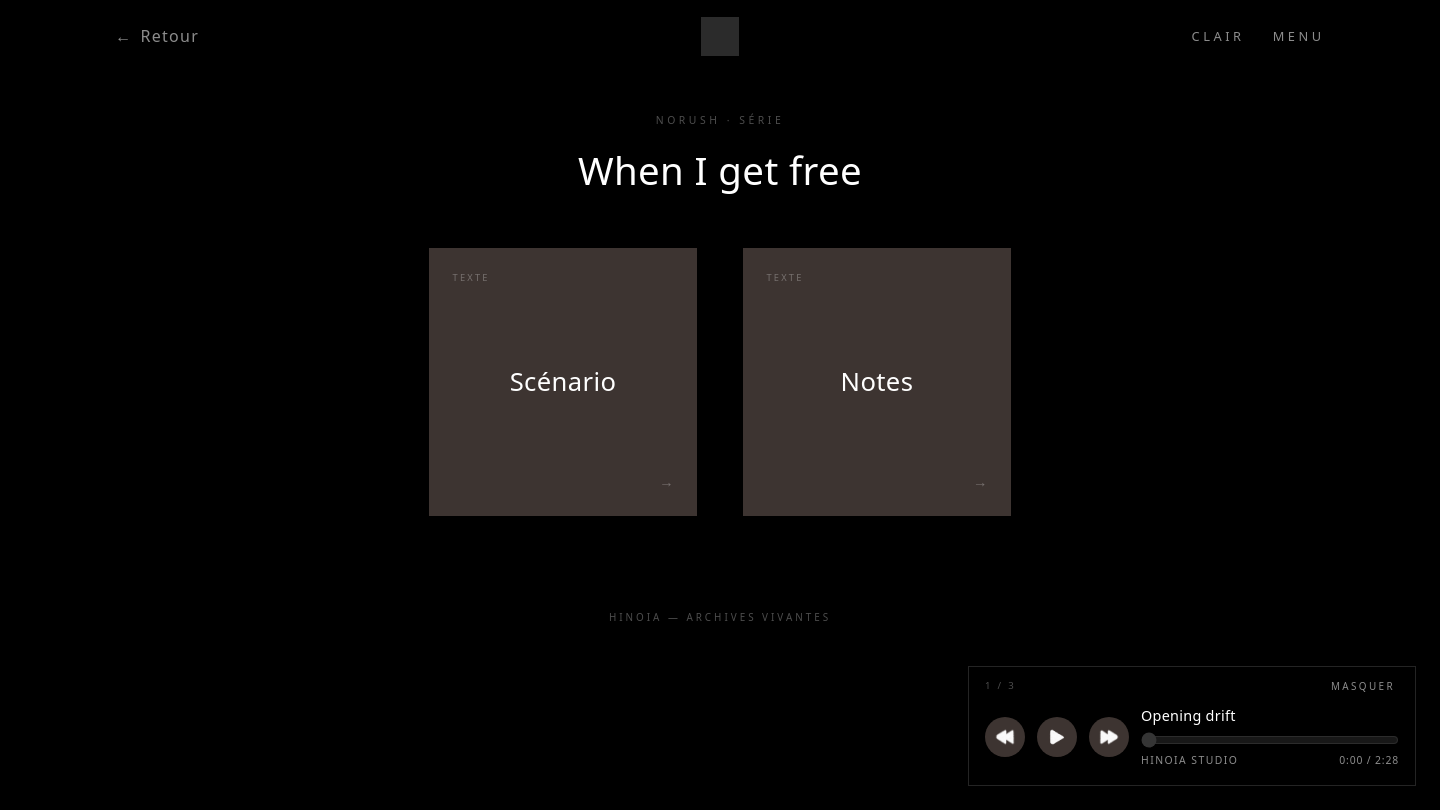
Test: lecteur de bande-son › se replie et se redéploie à la demande, sans interrompre la lecture
The image size is (1440, 810).
What coordinates should you click on to do the following:
click the button named "Lancer la lecture"
I would click on:
 (1057, 737)
Its box is [1037,717,1077,757].
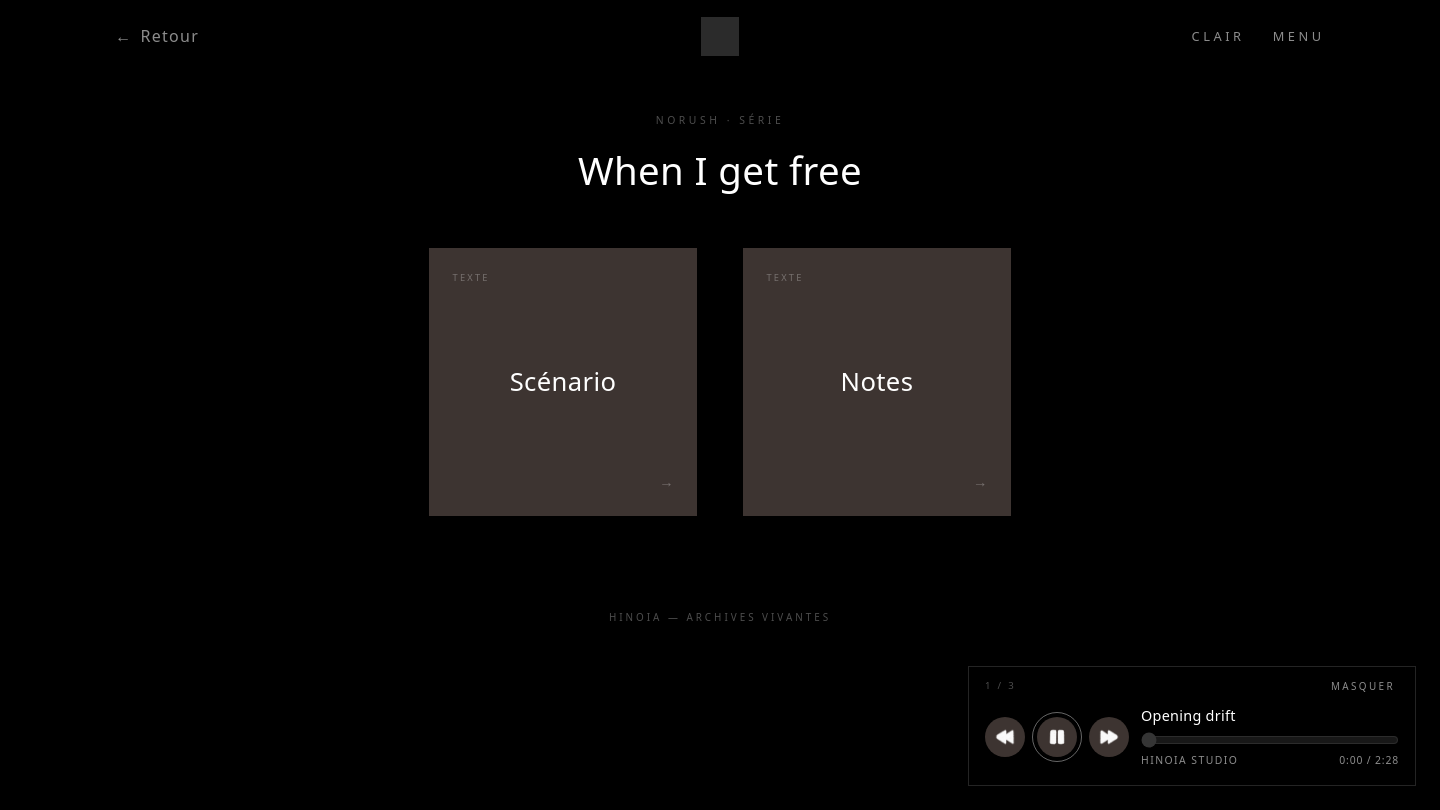
What coordinates should you click on to do the following:
click the button with aria-label "Replier le lecteur de bande-son"
I would click on:
 (1363, 686)
Its box is [1323,675,1403,697].
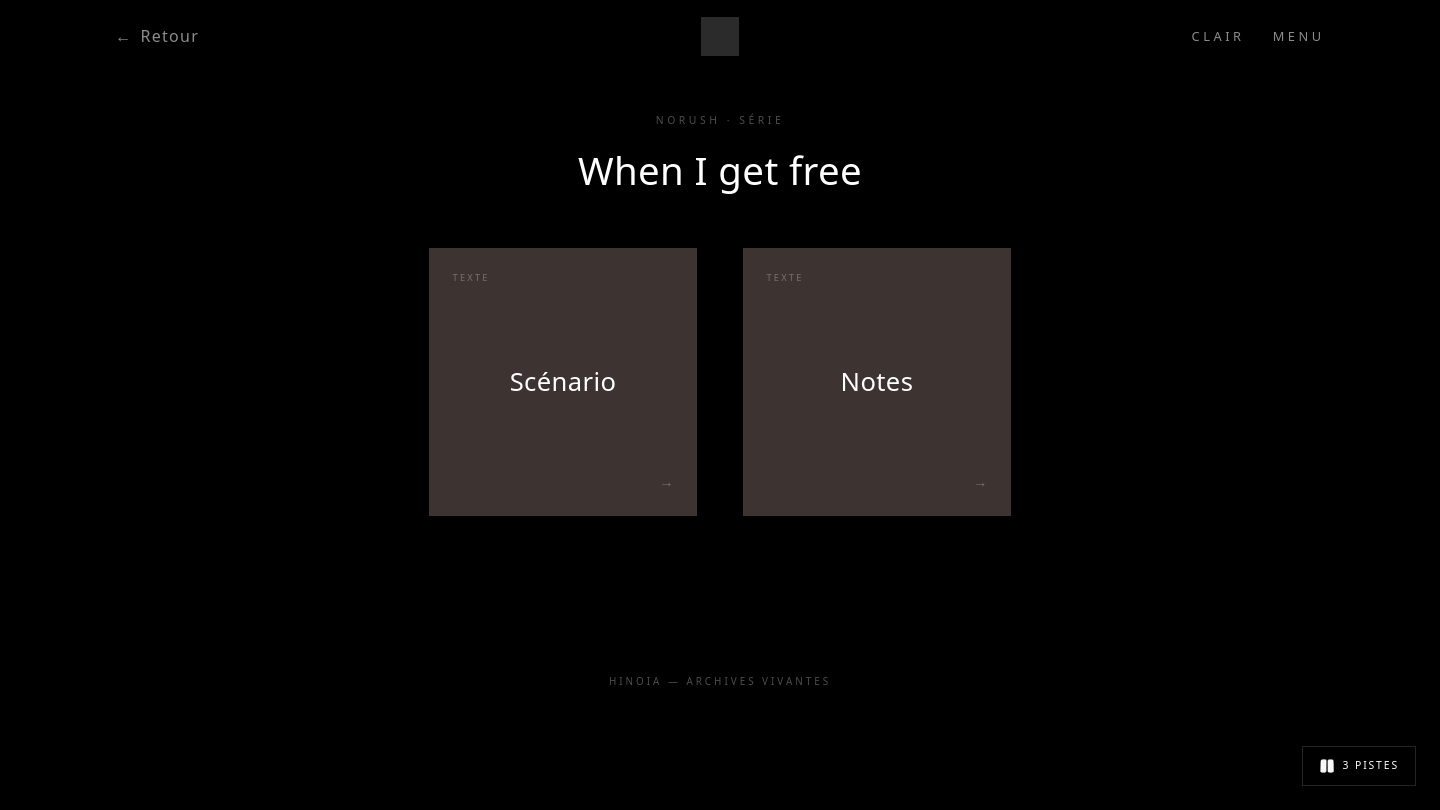
What coordinates should you click on to do the following:
click the button with aria-label "Afficher le lecteur de bande-son"
I would click on:
 (1359, 766)
Its box is [1303,747,1415,785].
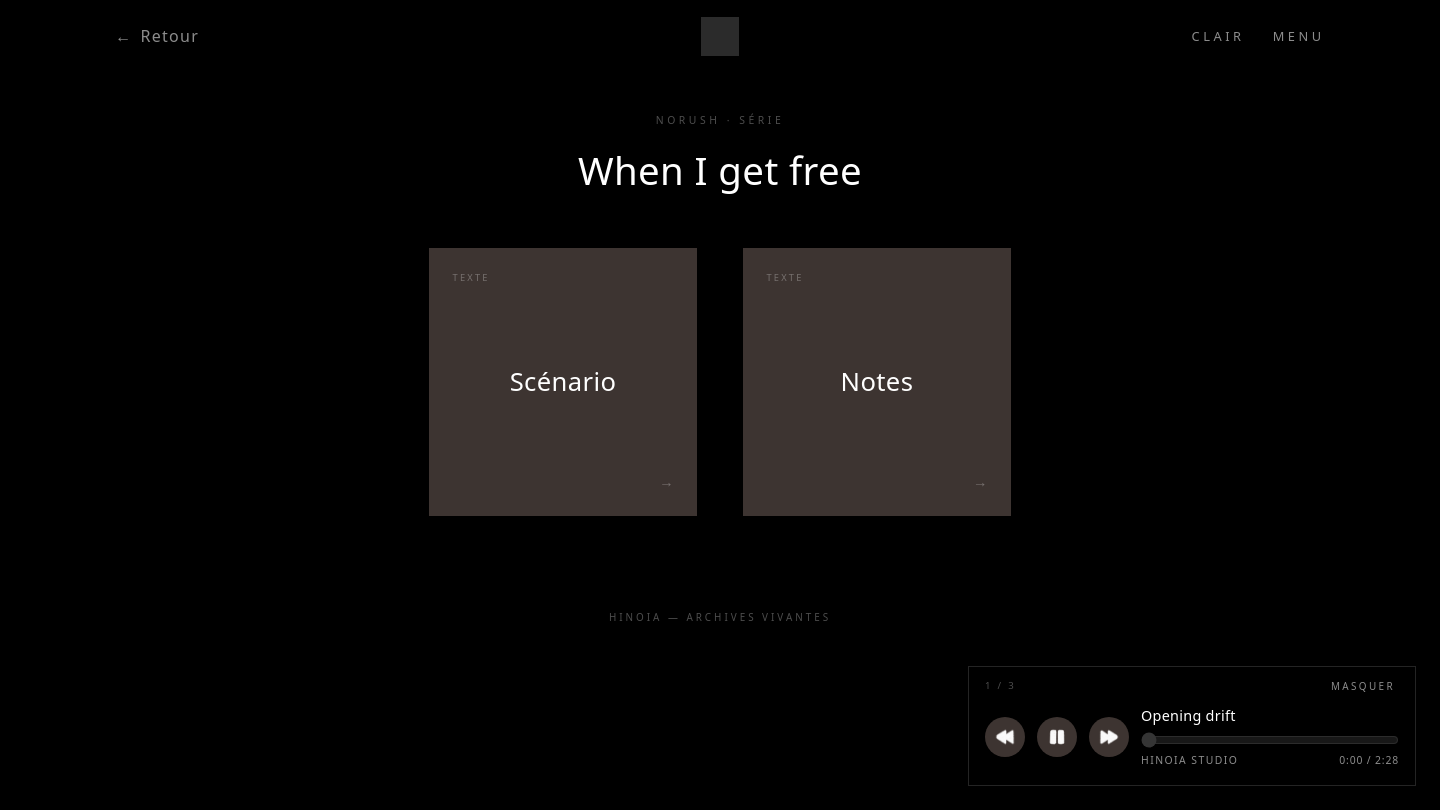
Check: the button named "Mettre en pause" is shown, box [1037,717,1077,757]
